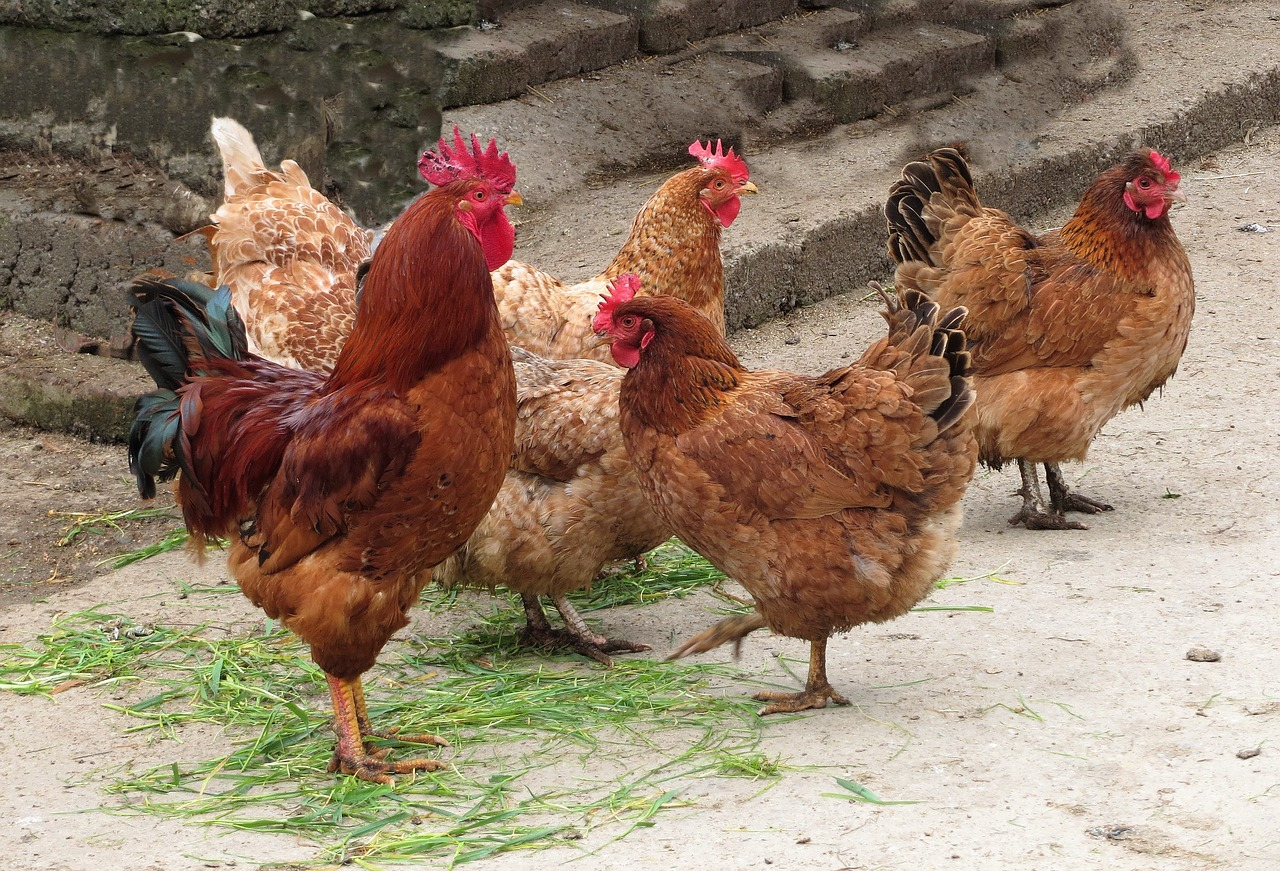chicken: (102, 135, 521, 793), (584, 273, 994, 719), (890, 144, 1211, 527), (516, 142, 762, 365), (216, 108, 390, 365)
